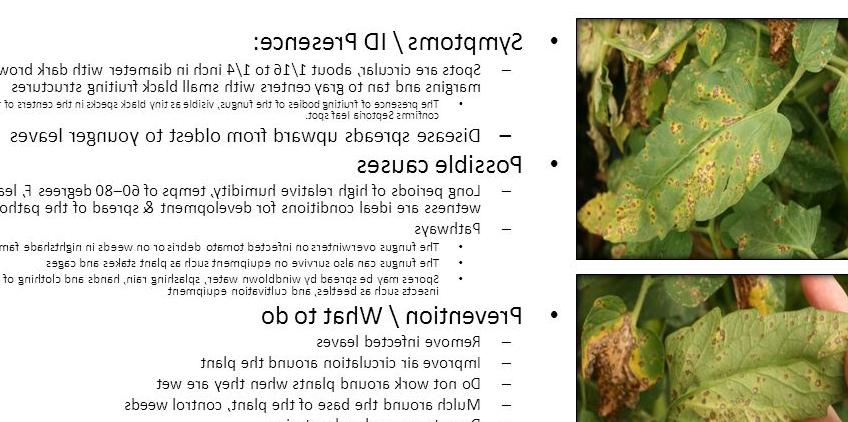Tomato Septoria leaf spot: (579, 61, 796, 245), (659, 306, 848, 422), (581, 285, 675, 422)
